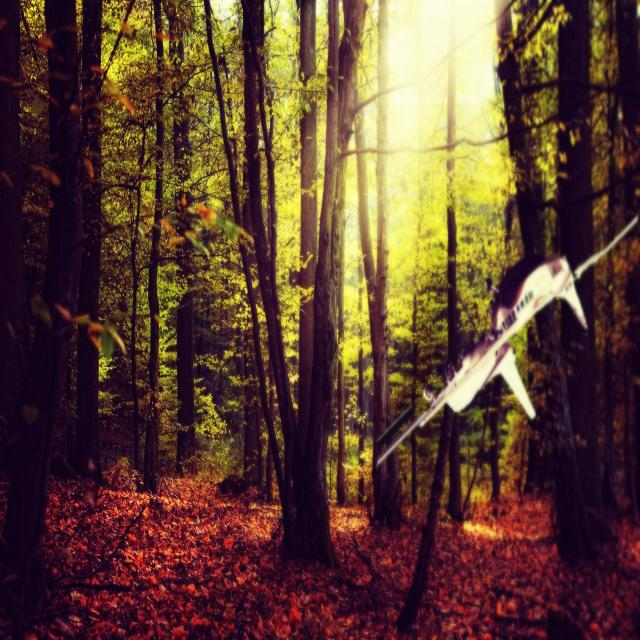airplane: (374, 213, 638, 468)
